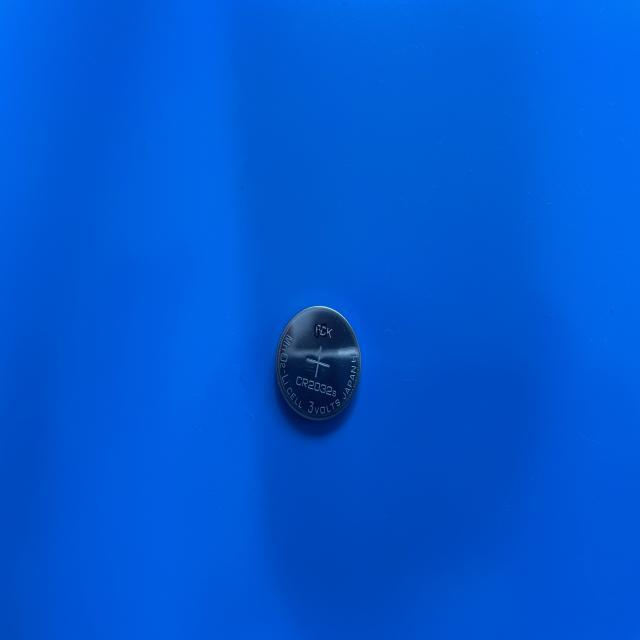COIN: (275, 301, 362, 422)
